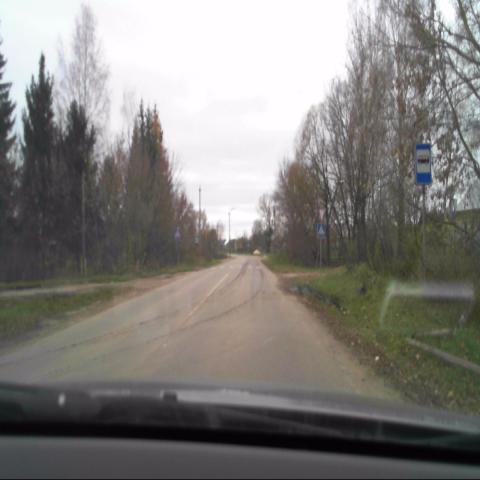2_4: (319, 209, 325, 221)
5_16: (416, 143, 432, 184)
5_19_1: (316, 222, 324, 238), (174, 227, 181, 240)
